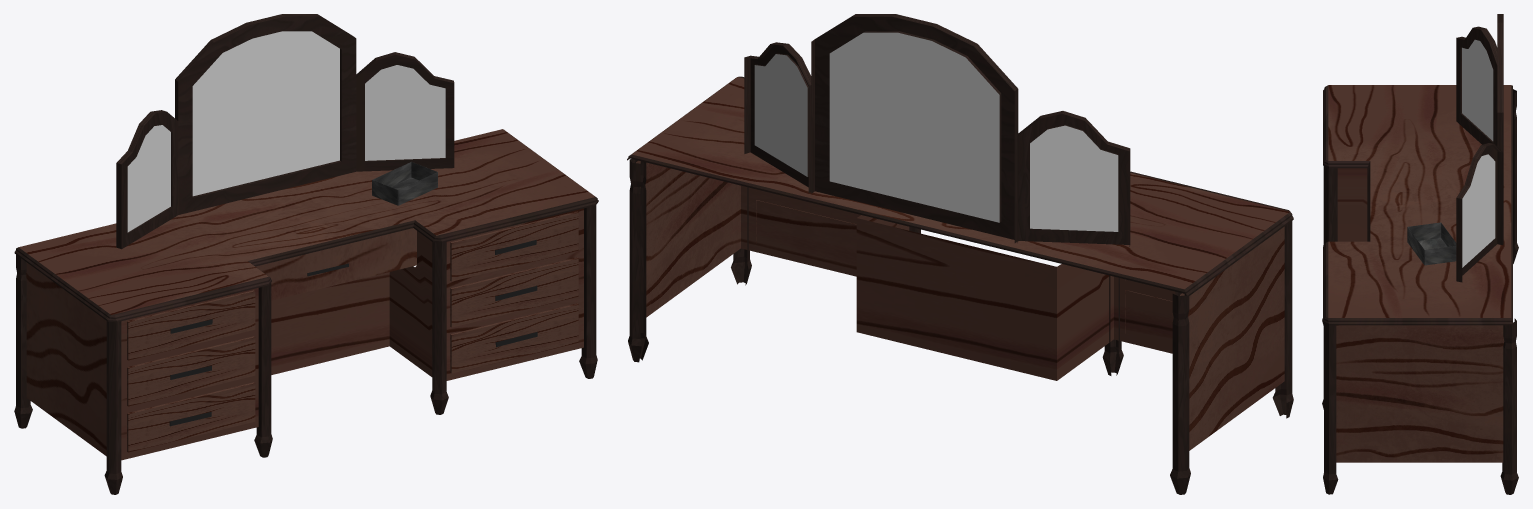
The model's file is aynalı masa.fbx.
3 renders of one model, left to right at view 1: azimuth 30°, elevation 25°; view 2: azimuth 150°, elevation 25°; view 3: azimuth 270°, elevation 25°, orthographic. The views are drawn at different scales.
Visible parts, largest first — view 1: masa, çekmece, orta ayna, yan ayna, dış ayak, orta ayak, arka ayak, makyaj kutusu, yan; view 2: masa, orta ayna, yan ayna, arka ayak, dış ayak, orta ayak; view 3: masa, yan ayna, arka ayak, dış ayak, makyaj kutusu, orta ayak, orta ayna.
Part boxes in pixels (x1,y1,x2,y2): masa: (14, 129, 598, 460); çekmece: (127, 211, 578, 452); orta ayna: (175, 14, 356, 214); yan ayna: (116, 52, 454, 249); dış ayak: (104, 205, 597, 494); orta ayak: (254, 242, 448, 457); arka ayak: (14, 255, 32, 428); makyaj kutusu: (372, 162, 437, 205); yan: (169, 240, 537, 426); masa: (627, 76, 1293, 450); orta ayna: (811, 14, 1018, 242); yan ayna: (744, 42, 1130, 246); arka ayak: (628, 159, 1190, 494); dış ayak: (731, 187, 1293, 418); orta ayak: (909, 226, 1123, 375); masa: (1323, 85, 1512, 462); yan ayna: (1456, 26, 1503, 282); arka ayak: (1500, 89, 1518, 494); dış ayak: (1323, 245, 1338, 494); makyaj kutusu: (1407, 222, 1456, 265); orta ayak: (1322, 166, 1337, 409); orta ayna: (1497, 14, 1503, 243).
Bounding box in the file's own units: 227 × 155 × 79.81.
